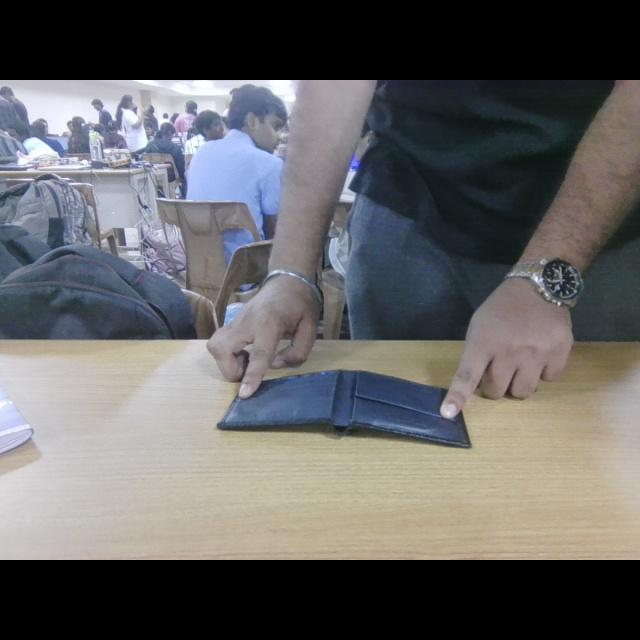wallet: (221, 368, 425, 444)
